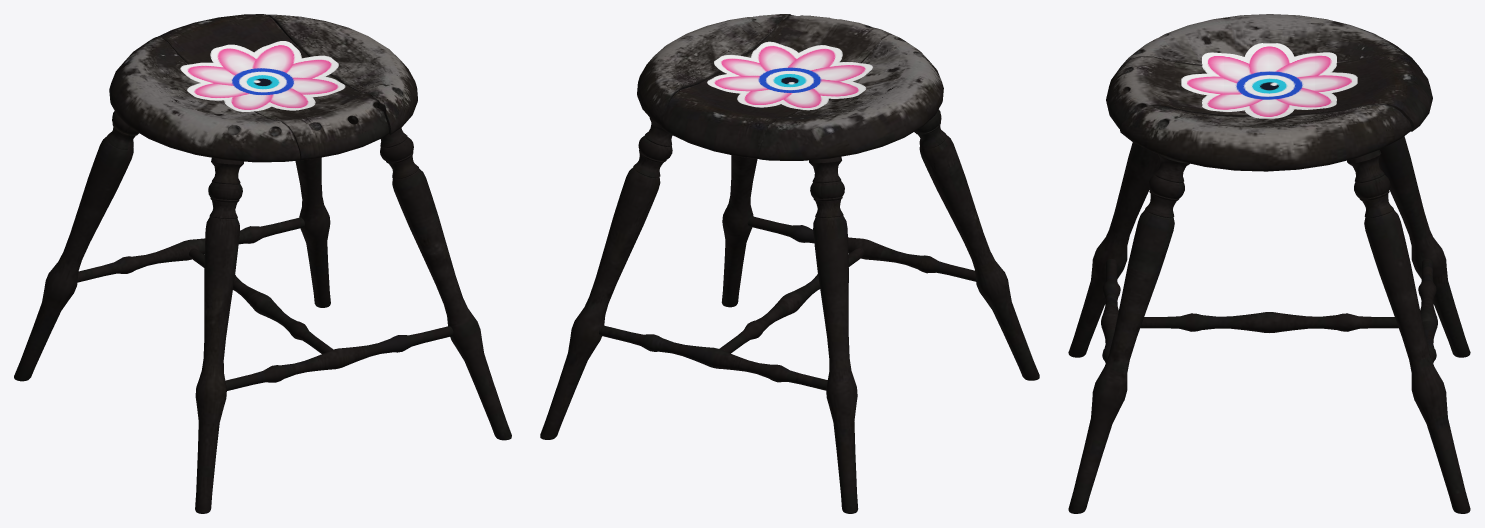
Rendered from nyb_bull_stool.glb.
The picture shows the model from 3 angles, left to right: view 1: azimuth 30°, elevation 25°; view 2: azimuth 150°, elevation 25°; view 3: azimuth 270°, elevation 25°; orthographic projection. The views are drawn at different scales.
Parts seen in each view (by area): view 1: wooden_stool_01, stk_eyeflower_die.png; view 2: wooden_stool_01, stk_eyeflower_die.png; view 3: wooden_stool_01, stk_eyeflower_die.png.
Part boxes in pixels (x1,y1,x2,y2): wooden_stool_01: [14, 14, 511, 513]; stk_eyeflower_die.png: [180, 41, 345, 111]; wooden_stool_01: [540, 14, 1039, 513]; stk_eyeflower_die.png: [707, 41, 872, 110]; wooden_stool_01: [1068, 14, 1470, 513]; stk_eyeflower_die.png: [1181, 43, 1357, 118].
Bounding box in the file's own units: 0.4254 × 0.4396 × 0.4424.
Materials: 2 (2 with a texture image).
